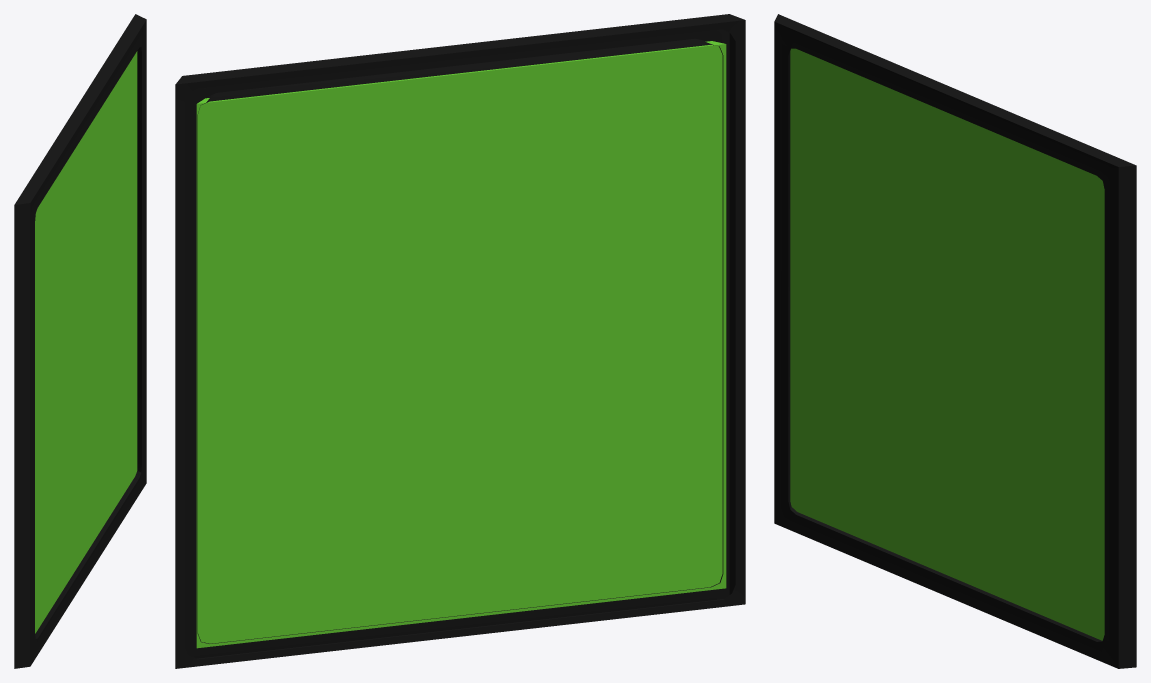
File: WindowGlassBig.fbx
3 renders of one model, left to right at view 1: azimuth 30°, elevation 25°; view 2: azimuth 150°, elevation 25°; view 3: azimuth 270°, elevation 25°, orthographic. The views are drawn at different scales.
Visible parts, largest first — view 1: WindowGlassBig, Window010; view 2: WindowGlassBig, Window010; view 3: WindowGlassBig, Window010.
Part boxes in pixels (<box>): WindowGlassBig: <box>35,51,137,633</box>; Window010: <box>14,14,146,668</box>; WindowGlassBig: <box>196,41,726,648</box>; Window010: <box>175,14,745,668</box>; WindowGlassBig: <box>790,48,1104,640</box>; Window010: <box>774,14,1136,668</box>.
Size of the model in its own units: 103 by 103 by 157.
